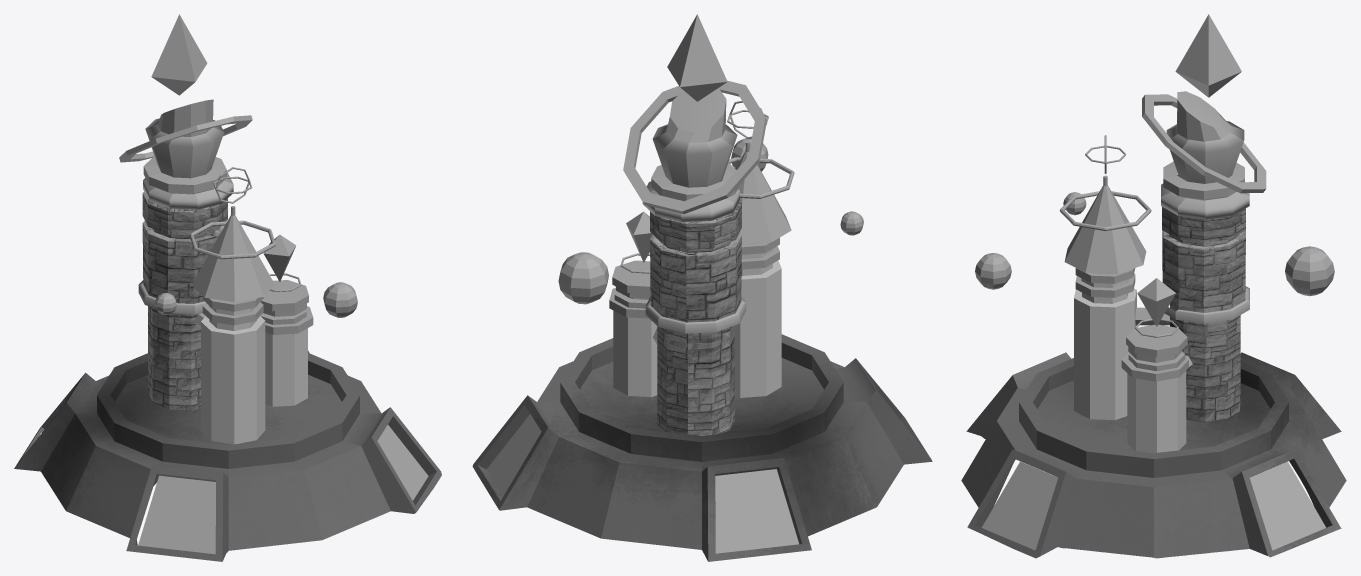
Rendered from castle2.fbx.
The picture shows the model from 3 angles, left to right: view 1: azimuth 30°, elevation 25°; view 2: azimuth 150°, elevation 25°; view 3: azimuth 270°, elevation 25°; orthographic projection. The views are drawn at different scales.
Parts seen in each view (by area): view 1: polySurface24, polySurface49, polySurface41, polySurface29, polySurface19, polySurface37, pCylinder9, pPyramid3, polySurface48, polySurface7, pCylinder8, polySurface43 (+9 smaller); view 2: polySurface24, polySurface49, polySurface29, polySurface41, pPipe1, polySurface37, pCylinder9, pPyramid3, polySurface19, polySurface43, polySurface48, pSphere3 (+5 smaller); view 3: polySurface24, polySurface49, polySurface29, polySurface41, polySurface37, polySurface19, pPyramid3, pCylinder9, pPipe1, polySurface48, polySurface43, pSphere3 (+11 smaller).
Part boxes in pixels (box(x1,y1,x2,y2)): polySurface24: box(14, 350, 441, 561); polySurface49: box(142, 192, 224, 410); polySurface41: box(201, 305, 265, 444); polySurface29: box(138, 425, 428, 554); polySurface19: box(191, 206, 274, 302); polySurface37: box(265, 318, 307, 406); pCylinder9: box(145, 118, 224, 178); pPyramid3: box(151, 14, 207, 95); polySurface48: box(142, 194, 227, 235); polySurface7: box(143, 156, 226, 194); pCylinder8: box(143, 173, 233, 209); polySurface43: box(157, 99, 213, 136); polySurface24: box(472, 334, 932, 561); polySurface49: box(650, 201, 741, 435); polySurface29: box(486, 414, 798, 553); polySurface41: box(734, 243, 781, 397); pPipe1: box(623, 80, 766, 214); polySurface37: box(613, 298, 657, 396); pCylinder9: box(652, 124, 737, 187); pPyramid3: box(667, 14, 727, 101); polySurface19: box(735, 141, 791, 244); polySurface43: box(666, 88, 726, 142); polySurface48: box(650, 203, 741, 248); pSphere3: box(558, 252, 608, 304); polySurface24: box(961, 352, 1346, 558); polySurface49: box(1162, 230, 1245, 422); polySurface29: box(981, 461, 1326, 550); polySurface41: box(1074, 273, 1136, 420); polySurface37: box(1127, 360, 1186, 453); polySurface19: box(1064, 175, 1146, 273); pPyramid3: box(1175, 14, 1241, 97); pCylinder9: box(1166, 121, 1244, 183); pPipe1: box(1142, 94, 1266, 193); polySurface48: box(1162, 207, 1245, 242); polySurface43: box(1177, 91, 1230, 141); pSphere3: box(1285, 246, 1334, 296).
Bounding box in the file's own units: 20.85 × 27.19 × 20.85.
